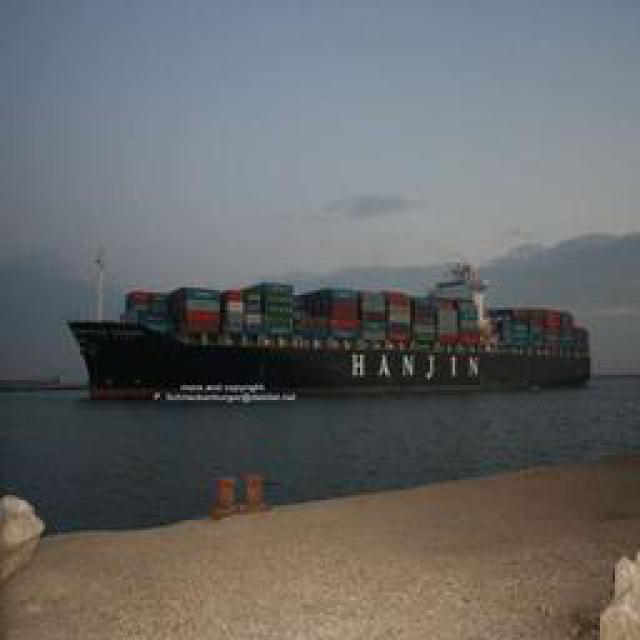Ship: (52, 274, 590, 397)
